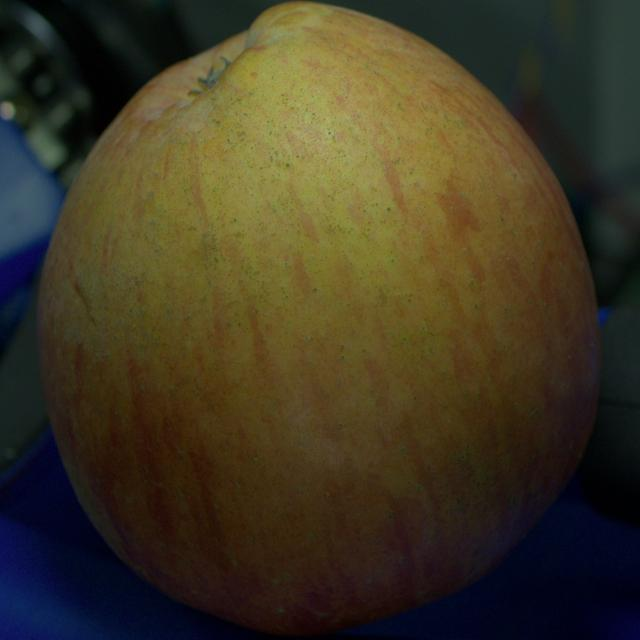apple: (38, 2, 600, 634)
scratch: (68, 276, 98, 326)
